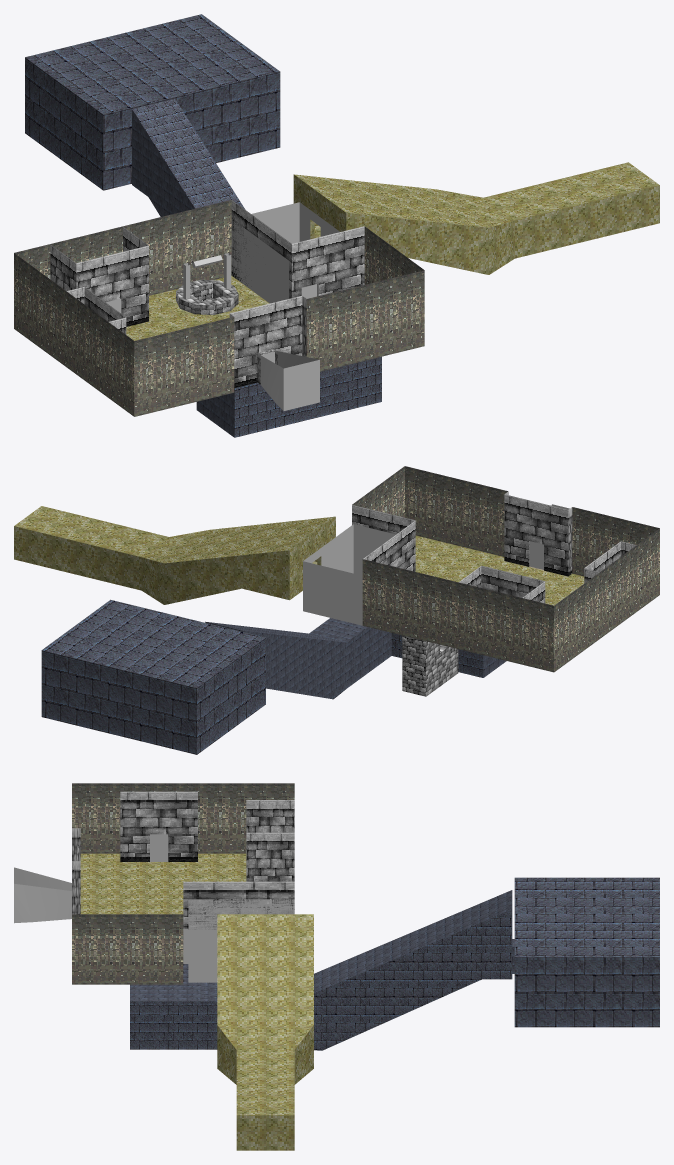
Rendered from UnderwaterVilliage.obj.
3 views of the same model, one above another, from view 1: azimuth 30°, elevation 25°; view 2: azimuth 150°, elevation 25°; view 3: azimuth 270°, elevation 25° (orthographic). The views are drawn at different scales.
Parts seen in each view (by area): view 1: mesh_76_#Room1#_materials/wall1.vmat#SFX_2#WALLPROPERTY_NO_LEDGE, mesh_24_#Room0#_materials/underwatergrass.vmat.003#SFX_1, mesh_76_#Room1#_materials/outerwall.vmat.001#SFX_2#WALLPROPERTY_, mesh_97_#Room3#_materials/underwaterstone.vmat.004#SFX_2, mesh_97.001_#Room3#_materials/underwaterstone.vmat.003#NoCollisi, mesh_87_#Room2#_materials/underwaterstone.vmat#SFX_2, mesh_87.001_#Room2#_materials/underwaterstone.vmat.002#NoCollisi, mesh_24_#Room0#_materials/housewall.vmat#SFX_A#WALLPROPERTY_NO_L, mesh_76_#Room1#_materials/underwatergrass.vmat.002#SFX_1, mesh_76_#Room1#_materials/courtyardvariedwhitebricks.vmat#SFX_2, mesh_52.002_#Room4#_materials/housewall.vmat.005#SFX_A#WALLPROPE, mesh_52_#Room4#_materials/housewall.vmat.001#SFX_A#WALLPROPERTY_; view 2: mesh_76_#Room1#_materials/wall1.vmat#SFX_2#WALLPROPERTY_NO_LEDGE, mesh_24_#Room0#_materials/underwatergrass.vmat.003#SFX_1, mesh_97_#Room3#_materials/underwaterstone.vmat.004#SFX_2, mesh_97.001_#Room3#_materials/underwaterstone.vmat.003#NoCollisi, mesh_76_#Room1#_materials/outerwall.vmat.001#SFX_2#WALLPROPERTY_, mesh_87_#Room2#_materials/underwaterstone.vmat#SFX_2, mesh_24_#Room0#_materials/housewall.vmat#SFX_A#WALLPROPERTY_NO_L, mesh_76_#Room1#_materials/underwatergrass.vmat.002#SFX_1, mesh_76_#Room1#_materials/courtyardvariedwhitebricks.vmat#SFX_2, mesh_87.001_#Room2#_materials/underwaterstone.vmat.002#NoCollisi; view 3: mesh_24_#Room0#_materials/underwatergrass.vmat.003#SFX_1, mesh_87_#Room2#_materials/underwaterstone.vmat#SFX_2, mesh_76_#Room1#_materials/wall1.vmat#SFX_2#WALLPROPERTY_NO_LEDGE, mesh_76_#Room1#_materials/outerwall.vmat.001#SFX_2#WALLPROPERTY_, mesh_97.001_#Room3#_materials/underwaterstone.vmat.003#NoCollisi, mesh_97_#Room3#_materials/underwaterstone.vmat.004#SFX_2, mesh_76_#Room1#_materials/underwatergrass.vmat.002#SFX_1, mesh_87.001_#Room2#_materials/underwaterstone.vmat.002#NoCollisi, mesh_24_#Room0#_materials/housewall.vmat#SFX_A#WALLPROPERTY_NO_L, mesh_52_#Room4#_materials/housewall.vmat.001#SFX_A#WALLPROPERTY_, mesh_24.001_#Room0#_materials/underwatergrass.vmat.001#NoCollisi.
Boxes of the visible parts, x1,y1,x2,y2 form: mesh_76_#Room1#_materials/wall1.vmat#SFX_2#WALLPROPERTY_NO_LEDGE: [14, 200, 424, 416]; mesh_24_#Room0#_materials/underwatergrass.vmat.003#SFX_1: [293, 162, 659, 274]; mesh_76_#Room1#_materials/outerwall.vmat.001#SFX_2#WALLPROPERTY_: [50, 200, 364, 387]; mesh_97_#Room3#_materials/underwaterstone.vmat.004#SFX_2: [25, 57, 280, 190]; mesh_97.001_#Room3#_materials/underwaterstone.vmat.003#NoCollisi: [25, 14, 279, 114]; mesh_87_#Room2#_materials/underwaterstone.vmat#SFX_2: [132, 109, 381, 437]; mesh_87.001_#Room2#_materials/underwaterstone.vmat.002#NoCollisi: [132, 98, 245, 209]; mesh_24_#Room0#_materials/housewall.vmat#SFX_A#WALLPROPERTY_NO_L: [231, 202, 339, 303]; mesh_76_#Room1#_materials/underwatergrass.vmat.002#SFX_1: [126, 275, 269, 340]; mesh_76_#Room1#_materials/courtyardvariedwhitebricks.vmat#SFX_2: [176, 279, 238, 314]; mesh_52.002_#Room4#_materials/housewall.vmat.005#SFX_A#WALLPROPE: [283, 359, 319, 410]; mesh_52_#Room4#_materials/housewall.vmat.001#SFX_A#WALLPROPERTY_: [260, 351, 319, 410]; mesh_76_#Room1#_materials/wall1.vmat#SFX_2#WALLPROPERTY_NO_LEDGE: [352, 466, 659, 672]; mesh_24_#Room0#_materials/underwatergrass.vmat.003#SFX_1: [14, 506, 335, 604]; mesh_97_#Room3#_materials/underwaterstone.vmat.004#SFX_2: [41, 638, 265, 754]; mesh_97.001_#Room3#_materials/underwaterstone.vmat.003#NoCollisi: [42, 599, 265, 687]; mesh_76_#Room1#_materials/outerwall.vmat.001#SFX_2#WALLPROPERTY_: [352, 491, 636, 603]; mesh_87_#Room2#_materials/underwaterstone.vmat#SFX_2: [205, 622, 506, 699]; mesh_24_#Room0#_materials/housewall.vmat#SFX_A#WALLPROPERTY_NO_L: [303, 524, 395, 625]; mesh_76_#Room1#_materials/underwatergrass.vmat.002#SFX_1: [415, 535, 584, 605]; mesh_76_#Room1#_materials/courtyardvariedwhitebricks.vmat#SFX_2: [402, 635, 458, 696]; mesh_87.001_#Room2#_materials/underwaterstone.vmat.002#NoCollisi: [207, 618, 367, 642]; mesh_24_#Room0#_materials/underwatergrass.vmat.003#SFX_1: [217, 914, 313, 1115]; mesh_87_#Room2#_materials/underwaterstone.vmat#SFX_2: [130, 909, 514, 1050]; mesh_76_#Room1#_materials/wall1.vmat#SFX_2#WALLPROPERTY_NO_LEDGE: [72, 783, 294, 984]; mesh_76_#Room1#_materials/outerwall.vmat.001#SFX_2#WALLPROPERTY_: [72, 791, 294, 929]; mesh_97.001_#Room3#_materials/underwaterstone.vmat.003#NoCollisi: [514, 877, 659, 957]; mesh_97_#Room3#_materials/underwaterstone.vmat.004#SFX_2: [514, 957, 659, 1027]; mesh_76_#Room1#_materials/underwatergrass.vmat.002#SFX_1: [80, 853, 246, 914]; mesh_87.001_#Room2#_materials/underwaterstone.vmat.002#NoCollisi: [130, 890, 514, 1001]; mesh_24_#Room0#_materials/housewall.vmat#SFX_A#WALLPROPERTY_NO_L: [183, 899, 294, 982]; mesh_52_#Room4#_materials/housewall.vmat.001#SFX_A#WALLPROPERTY_: [14, 867, 71, 923]; mesh_24.001_#Room0#_materials/underwatergrass.vmat.001#NoCollisi: [236, 1115, 294, 1150].
Size of what is drawn, in the model's own units: 2168 by 516 by 2136.
